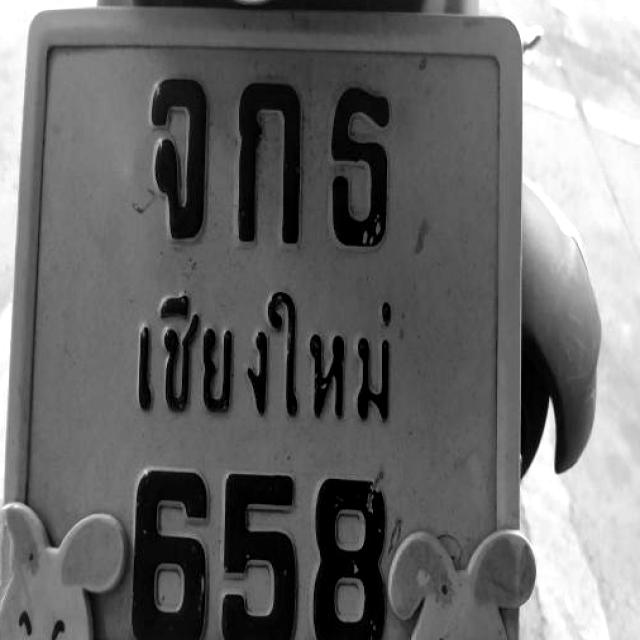letters: (115, 448, 201, 640), (123, 78, 221, 242), (214, 453, 296, 640), (323, 81, 389, 265), (242, 71, 308, 248), (328, 470, 393, 640)
license-plate: (19, 20, 505, 640)
province: (122, 291, 410, 433)
